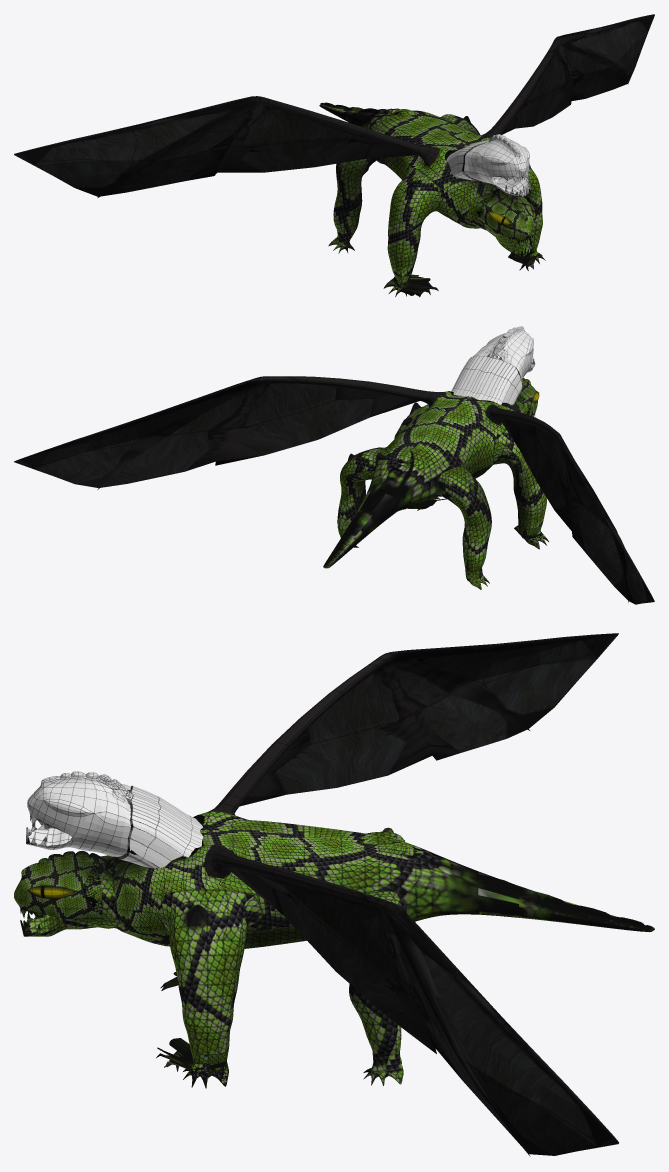
The model's file is monster_000032.obj.
3 views of the same model, one above another, from view 1: azimuth 30°, elevation 25°; view 2: azimuth 150°, elevation 25°; view 3: azimuth 270°, elevation 25° (orthographic). The views are drawn at different scales.
Parts seen in each view (by area): view 1: body_Cube, secondHead_Cube.002; view 2: body_Cube, secondHead_Cube.002; view 3: body_Cube, secondHead_Cube.002.
Part boxes in pixels (<box>): body_Cube: <box>14,14,654,297</box>; secondHead_Cube.002: <box>446,134,531,196</box>; body_Cube: <box>14,376,654,604</box>; secondHead_Cube.002: <box>451,326,535,404</box>; body_Cube: <box>14,633,654,1156</box>; secondHead_Cube.002: <box>26,771,203,868</box>.
Size of the model in its own units: 9.84 by 2.53 by 5.51.
